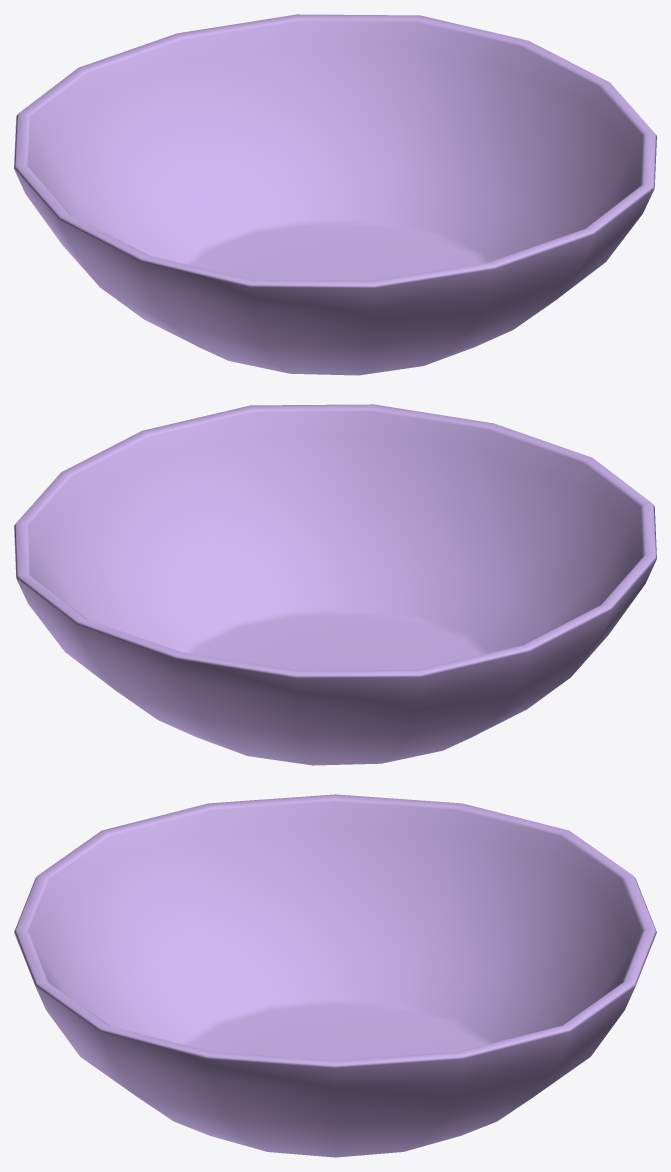
Rendered from Plate_6.glb.
3 views of the same model, one above another, from view 1: azimuth 30°, elevation 25°; view 2: azimuth 150°, elevation 25°; view 3: azimuth 270°, elevation 25° (orthographic).
Visible parts, largest first — view 1: Plate_6; view 2: Plate_6; view 3: Plate_6.
Boxes of the visible parts, box(x1,y1,x2,y2) form: Plate_6: box(14, 14, 656, 375); Plate_6: box(14, 404, 656, 765); Plate_6: box(14, 794, 656, 1157).
Bounding box in the file's own units: 0.3191 × 0.0862 × 0.3191.
Materials: 1 (1 with a texture image).
